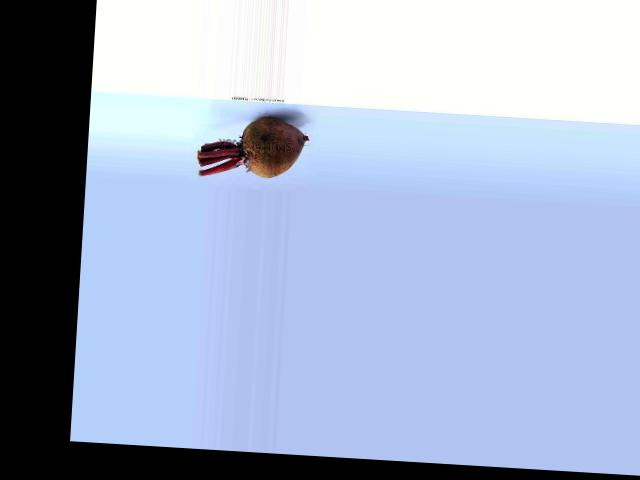beet: (197, 113, 308, 180)
